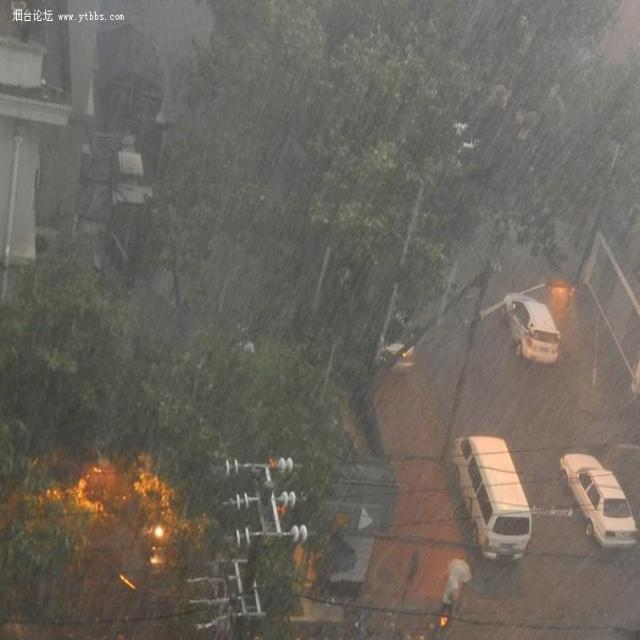car: (452, 433, 530, 556), (333, 258, 415, 369), (557, 451, 634, 548), (500, 289, 560, 369)
